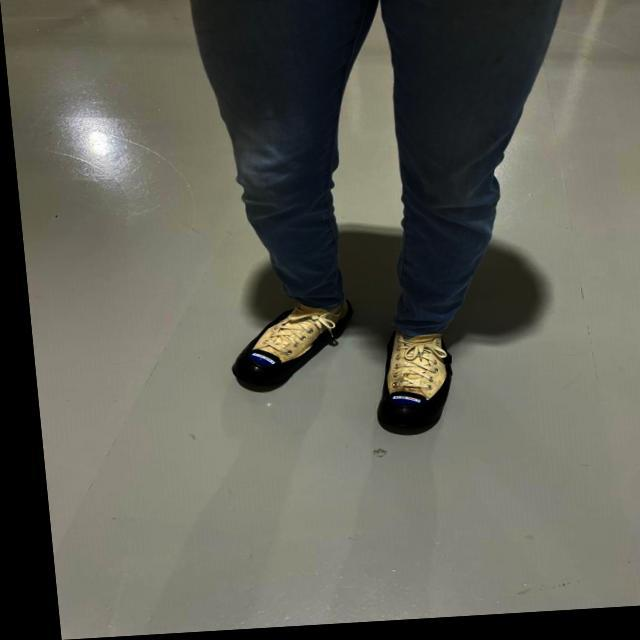shoes: (225, 297, 352, 395), (372, 322, 470, 440)
